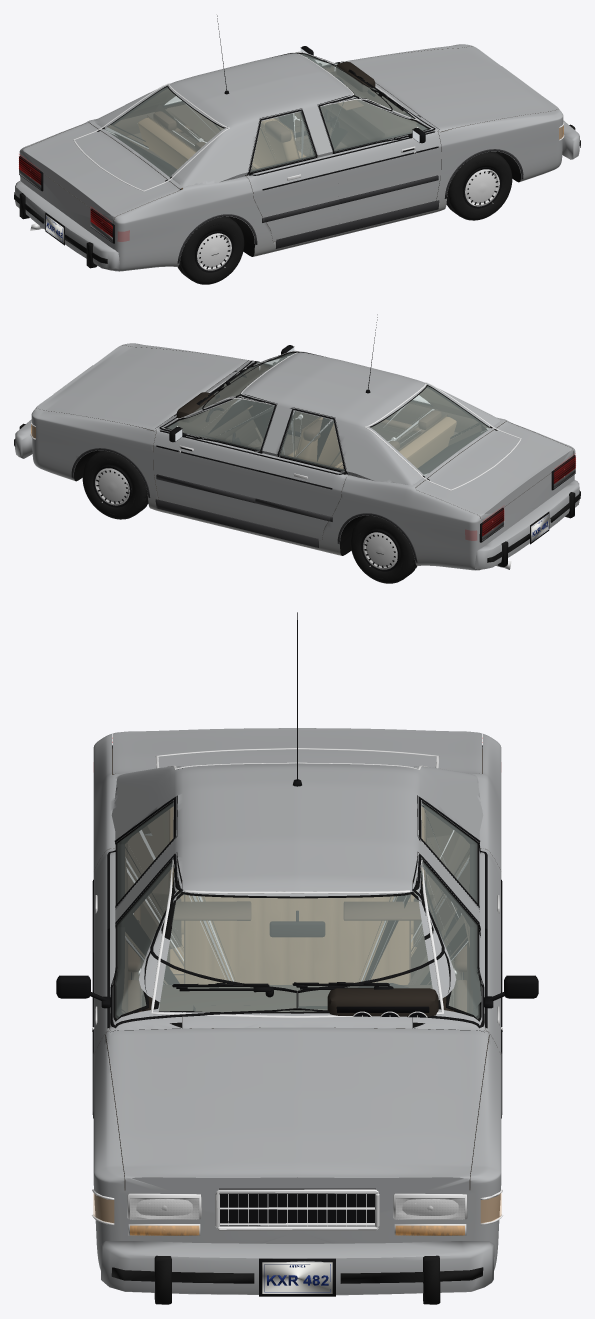
The model's file is sedan87_lod1.glb.
The picture shows the model from 3 angles, top to bottom: view 1: azimuth 30°, elevation 25°; view 2: azimuth 150°, elevation 25°; view 3: azimuth 270°, elevation 25°; orthographic projection. The views are drawn at different scales.
Visible parts, largest first — view 1: Body, Hood, Trunk, Interior, Door_FR, Glass, Door_RR, Wheel_FR_mesh, Wheel_RR_mesh, Glass_FR, Bumper_R, Trim (+7 smaller); view 2: Body, Hood, Trunk, Door_FL, Glass, Interior, Door_RL, Wheel_FL_mesh, Wheel_RL_mesh, Glass_FL, Bumper_R, Trim (+9 smaller); view 3: Body, Hood, Glass, Interior, Bumper_F, Ends, Trunk, Door_FR, Door_FL, Glass_FL, Glass_FR, Trim_FR (+11 smaller).
Boxes of the visible parts, bbox=[...] form: Body: bbox=[19, 44, 563, 271]; Hood: bbox=[345, 46, 558, 132]; Trunk: bbox=[21, 122, 179, 223]; Interior: bbox=[138, 61, 420, 189]; Door_FR: bbox=[317, 95, 441, 224]; Glass: bbox=[73, 51, 418, 191]; Door_RR: bbox=[245, 108, 339, 241]; Wheel_FR_mesh: bbox=[446, 151, 512, 220]; Wheel_RR_mesh: bbox=[177, 216, 244, 284]; Glass_FR: bbox=[320, 95, 430, 151]; Bumper_R: bbox=[14, 181, 119, 270]; Trim: bbox=[177, 15, 523, 263]; Body: bbox=[31, 343, 575, 570]; Hood: bbox=[36, 345, 249, 431]; Trunk: bbox=[415, 421, 573, 522]; Door_FL: bbox=[153, 394, 277, 523]; Glass: bbox=[176, 350, 521, 490]; Interior: bbox=[174, 368, 456, 468]; Door_RL: bbox=[255, 407, 348, 540]; Wheel_FL_mesh: bbox=[82, 450, 148, 519]; Wheel_RL_mesh: bbox=[350, 515, 417, 583]; Glass_FL: bbox=[164, 394, 276, 449]; Bumper_R: bbox=[475, 480, 580, 569]; Trim: bbox=[71, 314, 417, 562]; Body: bbox=[93, 734, 501, 1270]; Hood: bbox=[105, 1027, 489, 1190]; Glass: bbox=[151, 748, 443, 1017]; Interior: bbox=[142, 806, 452, 1028]; Bumper_F: bbox=[101, 1241, 494, 1304]; Ends: bbox=[91, 745, 502, 1296]; Trunk: bbox=[112, 728, 482, 773]; Door_FR: bbox=[93, 852, 181, 1054]; Door_FL: bbox=[413, 852, 501, 1054]; Glass_FL: bbox=[410, 862, 482, 1020]; Glass_FR: bbox=[112, 862, 184, 1020]; Trim_FR: bbox=[56, 853, 297, 1118].
Bounding box in the file's own units: 4.86 × 2.14 × 2.09.
Materials: 33 (5 with a texture image).
